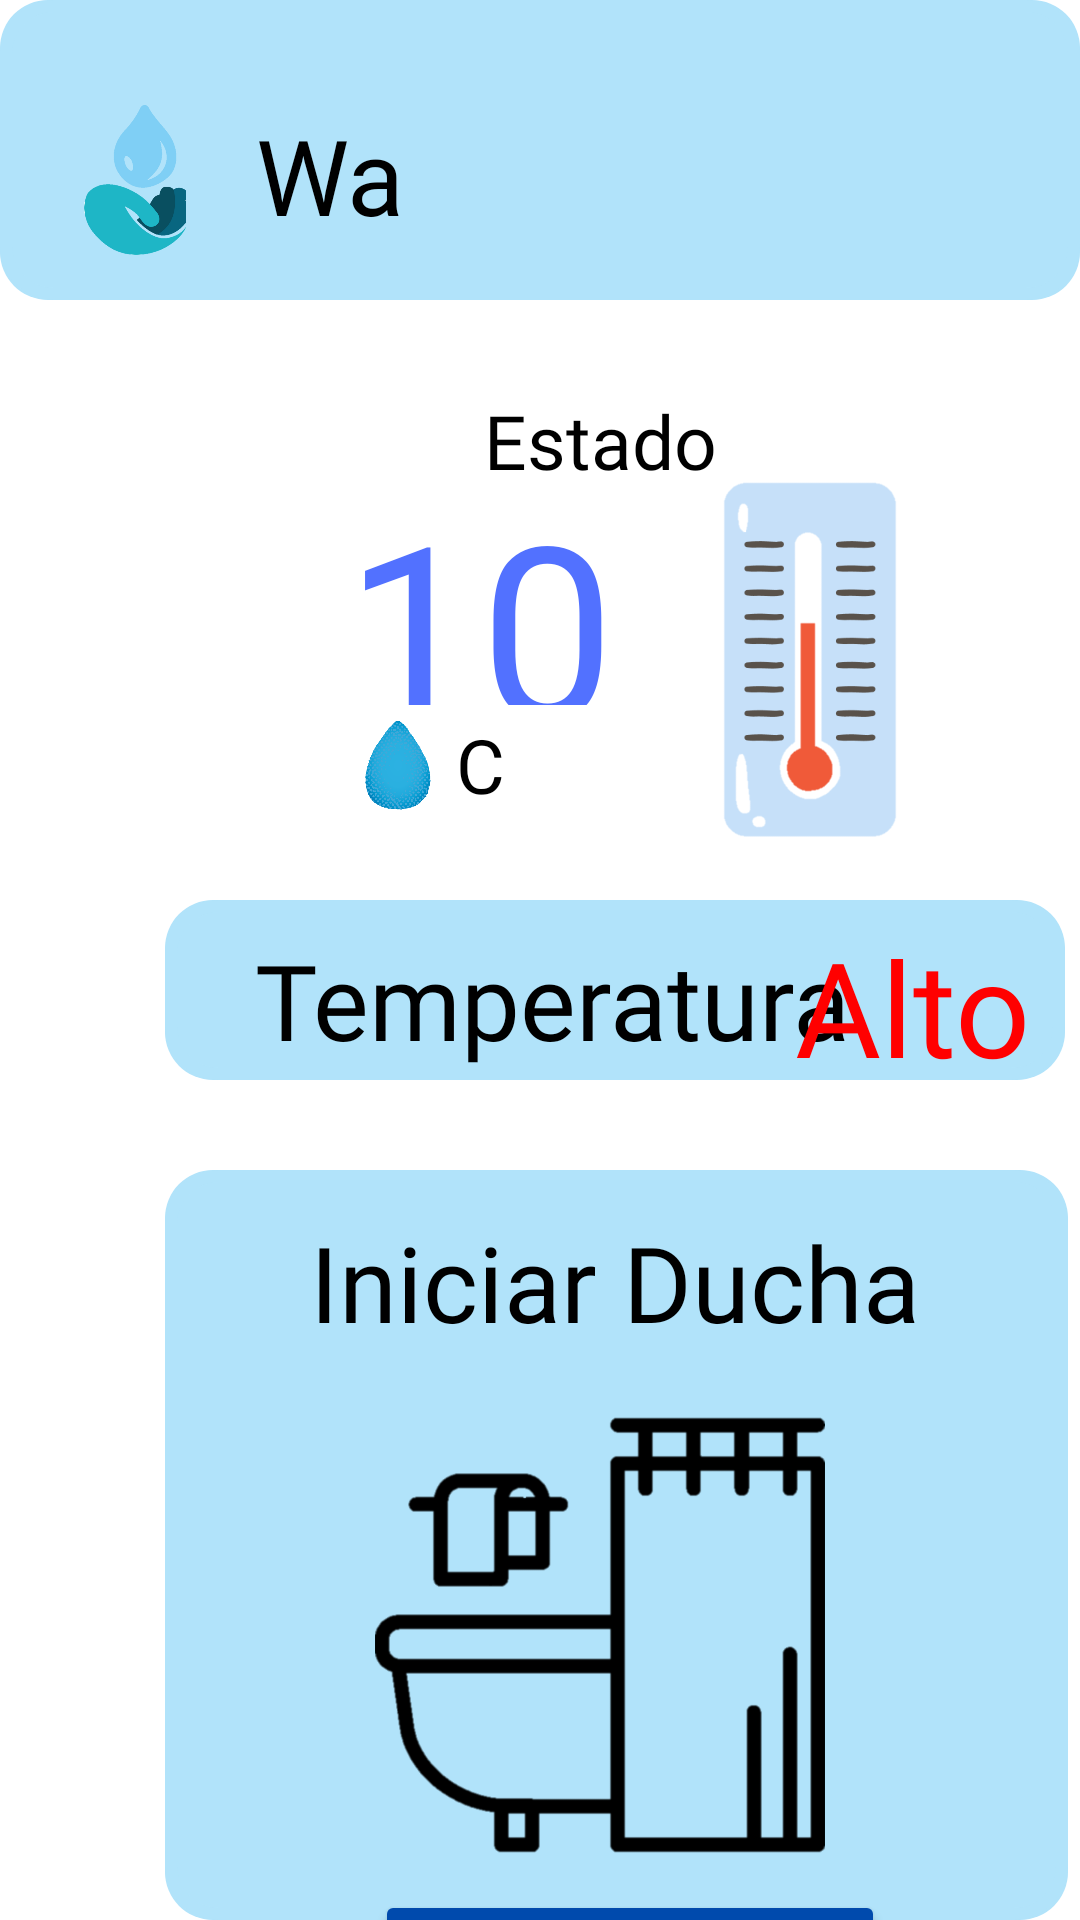

Icons on this 1080x1920 Android screen, each with its box as region(x1, y1, x2, y2):
goti: region(365, 721, 431, 810)
termo: region(724, 483, 896, 837)
